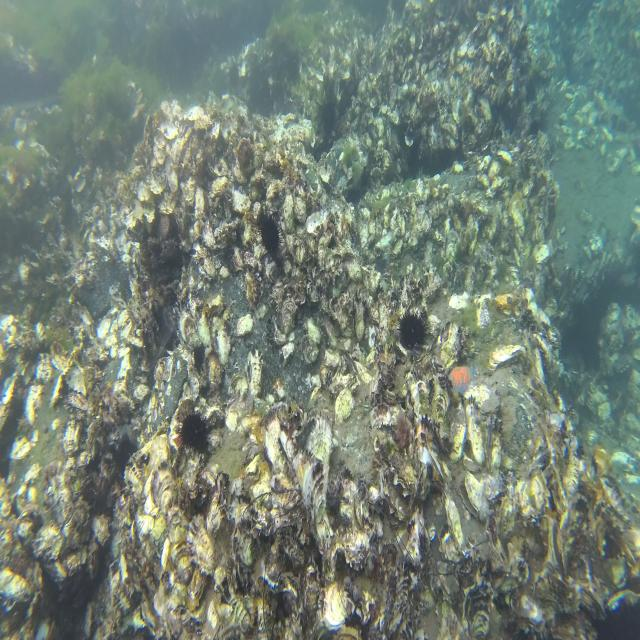echinus: (178, 406, 211, 455), (394, 308, 428, 353), (258, 208, 283, 262)
starfish: (447, 358, 478, 398)
